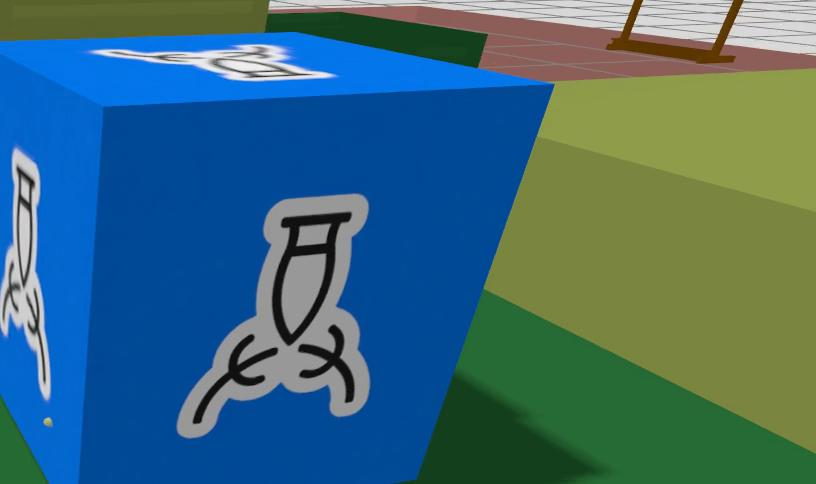KFS_REAL: (0, 34, 551, 484), (177, 194, 369, 438), (0, 148, 50, 401), (90, 44, 331, 80)
